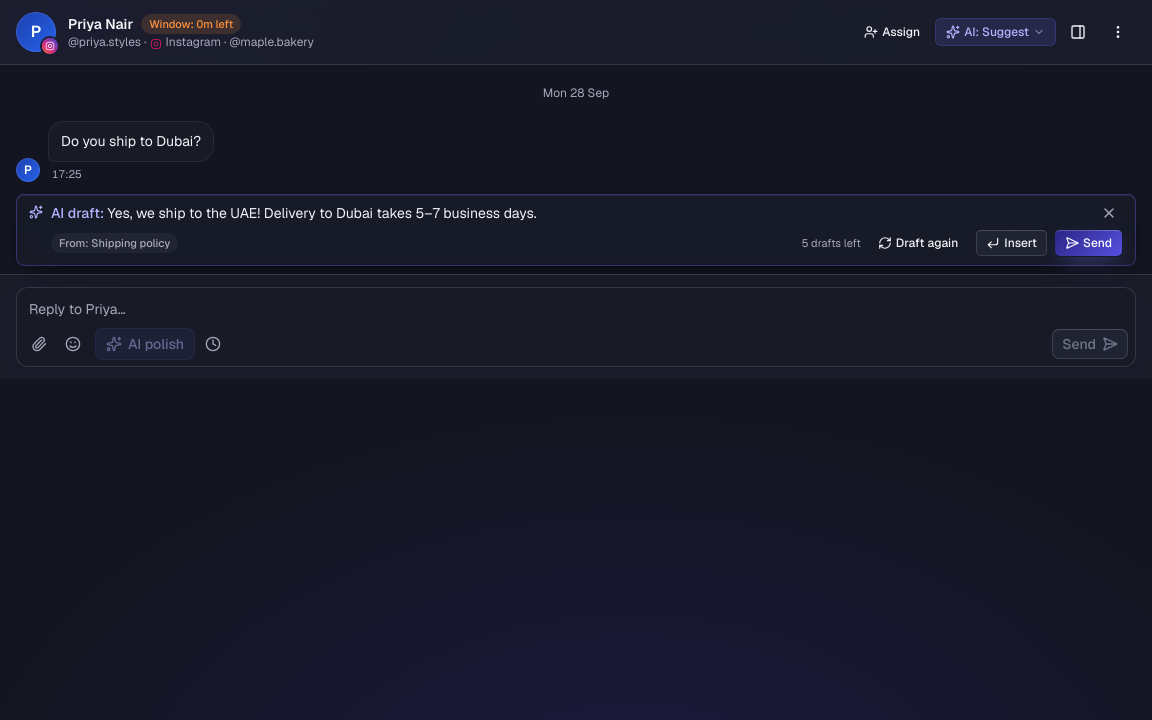
Test: Suggested reply in the thread (F-08) › Edit moves the text into the composer; the edited reply carries suggestion_id
Click the button "Insert" at point(1012, 243), box [975,229,1048,257]
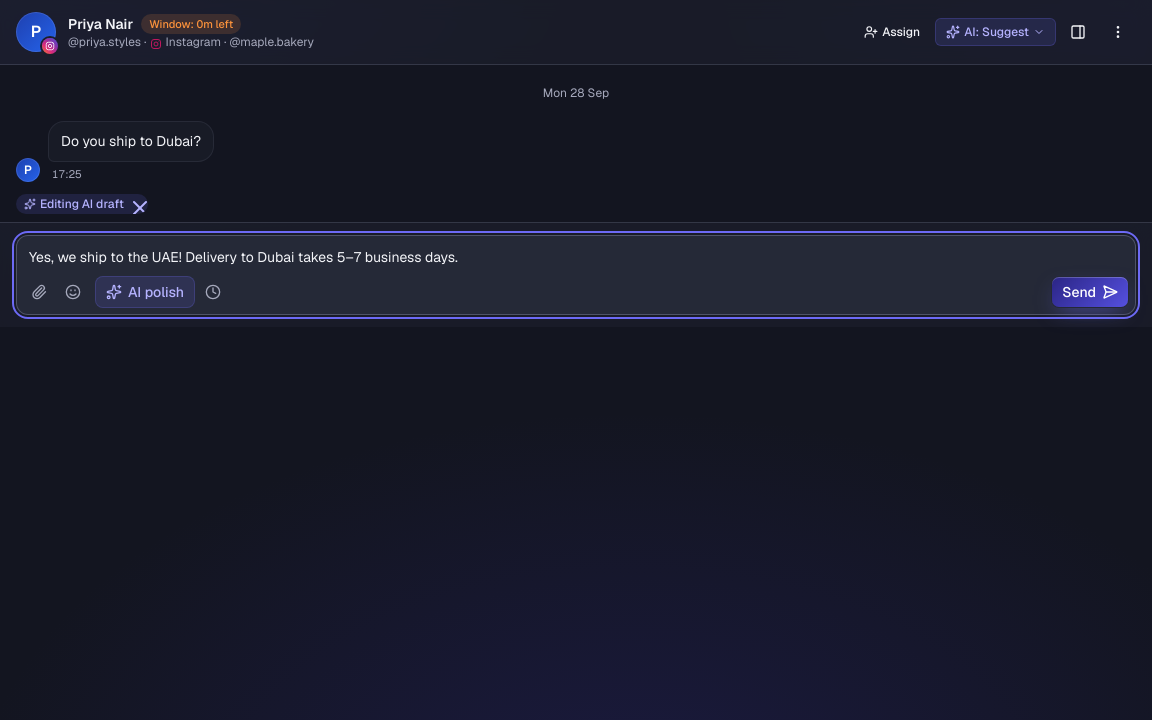
Check: the text box named "Reply to Priya Nair" holds "Yes, we ship to the UAE! Delivery to Dubai takes 5–7 business days."
Check: the text "Editing AI draft" is shown, box [16,194,148,214]
Type " Free over ₹3,000." into the text box named "Reply to Priya Nair" at point(576, 256), box [17,236,1135,276]
Then press Enter
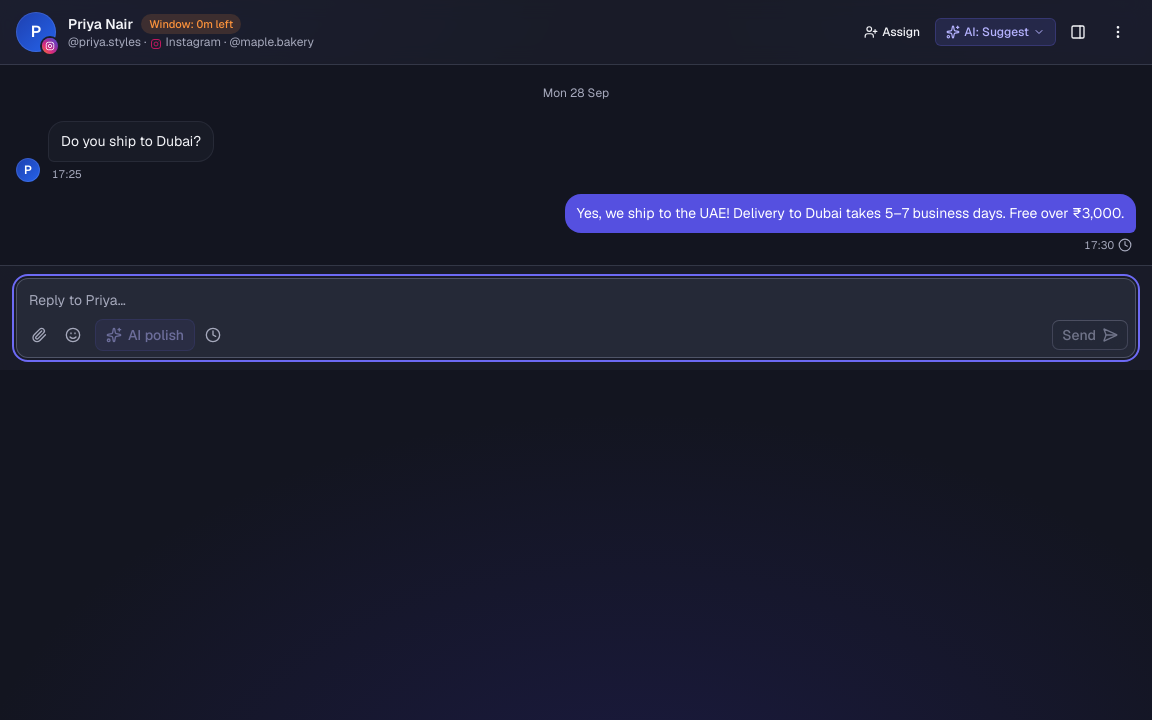
Check: the text "Editing AI draft" is gone
